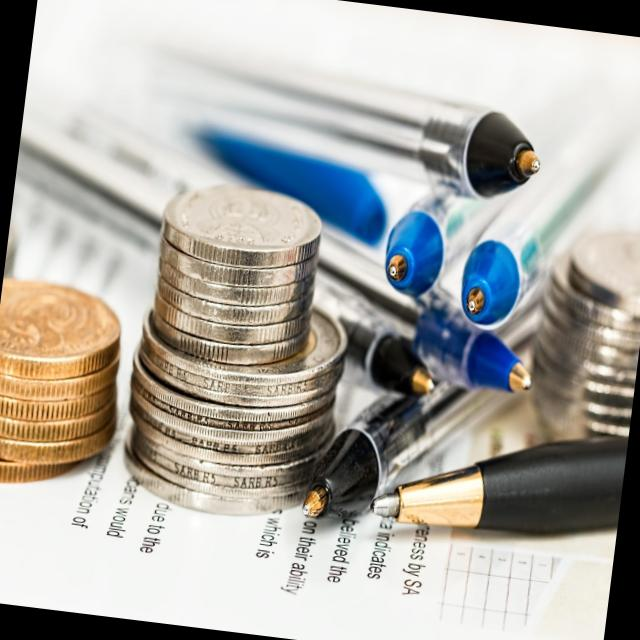pen: (214, 32, 572, 202), (360, 424, 627, 542)
